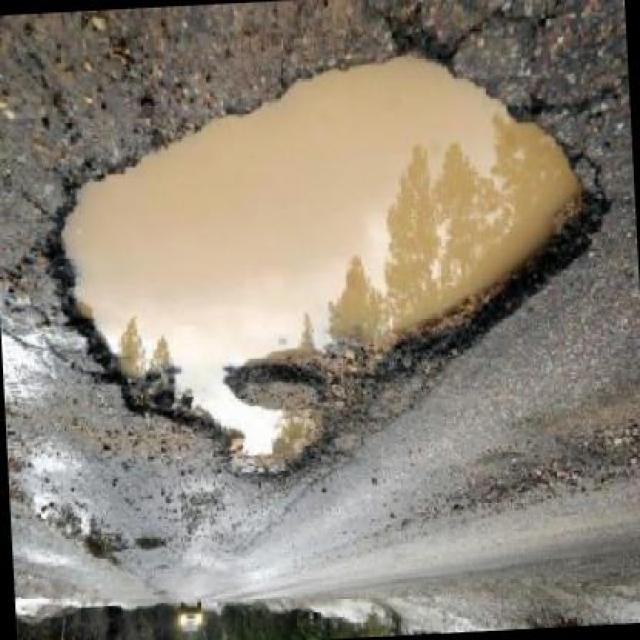pothole: (31, 33, 624, 501)
